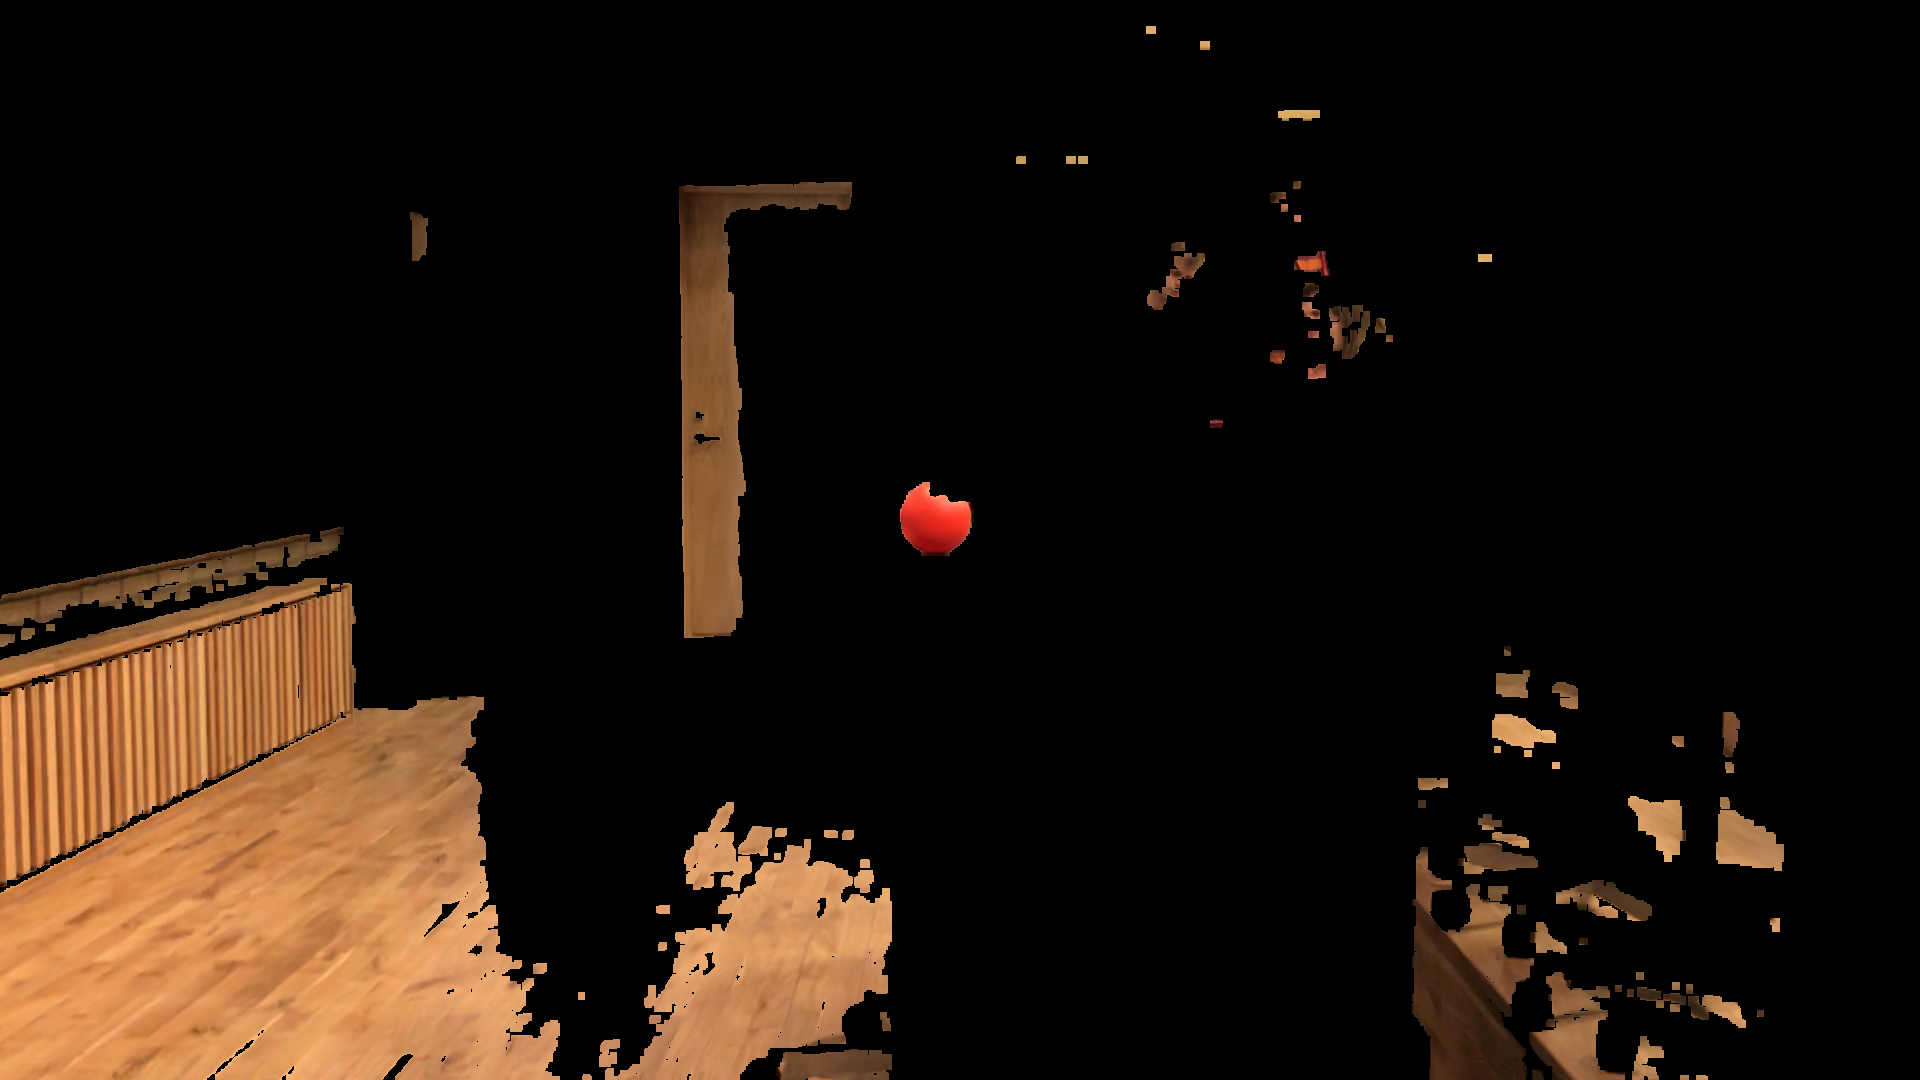Ball: (899, 476, 980, 560)
